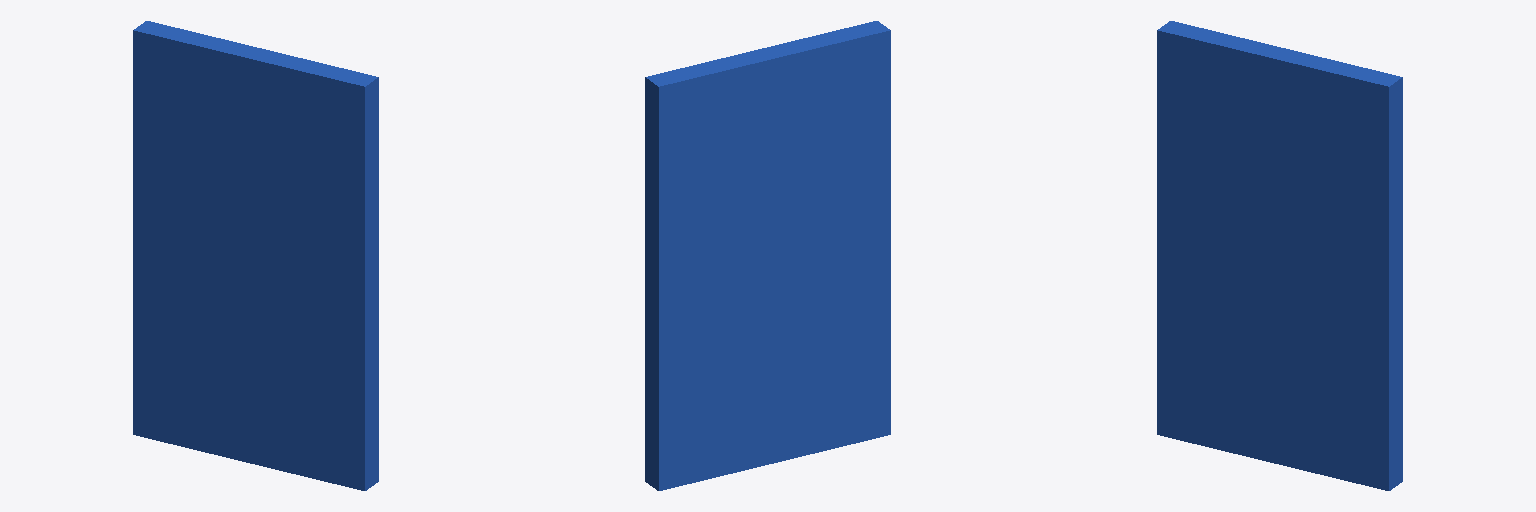
The robot description file, URDF, robot "Domino_13":
<robot name="Domino_13" version="1.0">
  <link name="Domino_13_link">
    <collision name="Cube.012_collision">
      <origin rpy="0.00000 0.00000 1.04720" xyz="-0.42093 0.93397 0.25000"/>
      <geometry>
        <box size="0.30000 0.03000 0.50000"/>
      </geometry>
    </collision>
    <inertial>
      <inertia ixx="0.00265" ixy="-0.00032" ixz="0.00000" iyy="0.00228" iyz="0.00000" izz="0.00076"/>
      <origin rpy="0.00000 0.00000 0.00000" xyz="-0.42093 0.93397 0.25000"/>
      <mass value="0.10000"/>
    </inertial>
    <visual name="Cube.012">
      <material name="turnarrow"/>
      <origin rpy="0.00000 0.00000 1.04720" xyz="-0.42093 0.93397 0.25000"/>
      <geometry>
        <box size="0.30000 0.03000 0.50000"/>
      </geometry>
    </visual>
  </link>
  <material name="turnarrow">
    <color rgba="0.23137 0.44706 0.80000 1.00000"/>
  </material>
</robot>

--- What the picture shows (computed from the rendered views, not written in the file) ---
The picture shows the robot from 3 angles, left to right: view 1: azimuth 90°, elevation 25°; view 2: azimuth 150°, elevation 25°; view 3: azimuth 270°, elevation 25°; orthographic projection.
Robot: Domino_13 — 1 links, 0 joints (none); root link Domino_13_link; default pose: all joints at 0.
Links seen in each view (by area): view 1: Domino_13_link; view 2: Domino_13_link; view 3: Domino_13_link.
Boxes of the visible links, x1,y1,x2,y2 form: Domino_13_link: (133,21,378,490); Domino_13_link: (645,21,890,490); Domino_13_link: (1157,21,1402,490).
Bounding box of the posed robot: 0.176 × 0.2748 × 0.5 m (x, y, z).
Geometry: primitives only (box / cylinder / sphere), no mesh files.